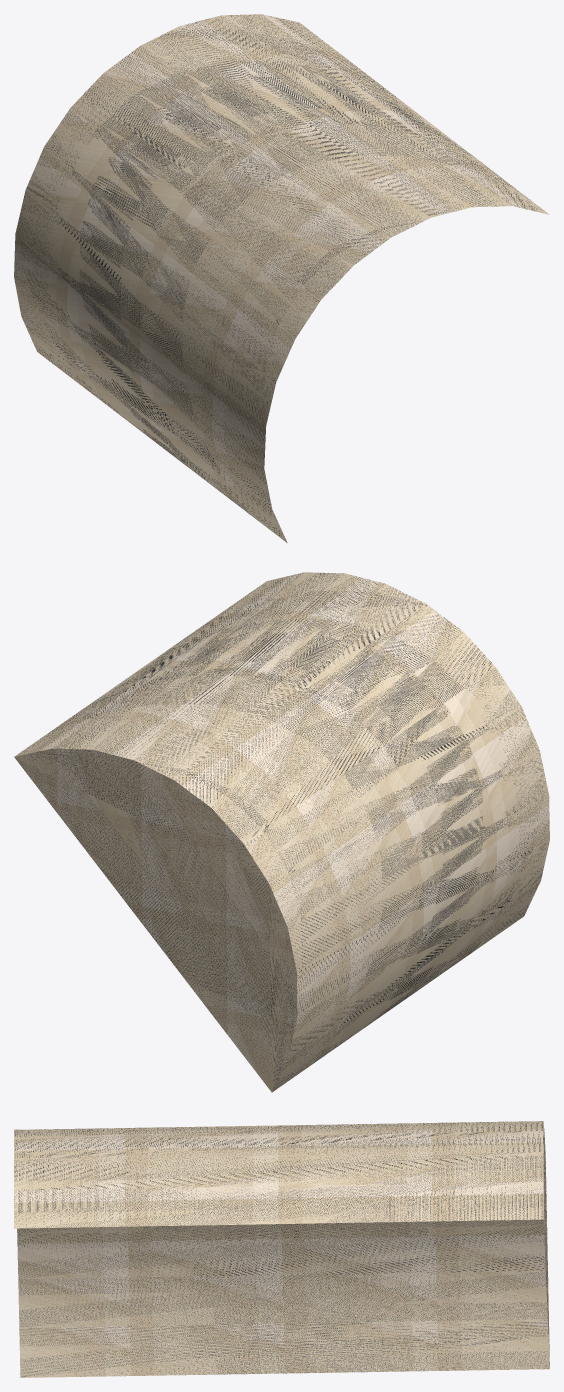
Rendered from original-209.obj.
The picture shows the model from 3 angles, top to bottom: view 1: azimuth 30°, elevation 25°; view 2: azimuth 150°, elevation 25°; view 3: azimuth 270°, elevation 25°; orthographic projection. The views are drawn at different scales.
Parts seen in each view (by area): view 1: Group9/mesh100/mesh100-geometry/material_1/component_17#mesh100-; view 2: Group9/mesh100/mesh100-geometry/material_1/component_17#mesh100-; view 3: Group9/mesh100/mesh100-geometry/material_1/component_17#mesh100-.
Boxes of the visible parts, left/top/right/bottom form: Group9/mesh100/mesh100-geometry/material_1/component_17#mesh100-: left=14, top=14, right=549, bottom=543; Group9/mesh100/mesh100-geometry/material_1/component_17#mesh100-: left=14, top=572, right=549, bottom=1092; Group9/mesh100/mesh100-geometry/material_1/component_17#mesh100-: left=14, top=1121, right=549, bottom=1377.
Bounding box in the file's own units: 0.0214 × 0.0217 × 0.0331.
